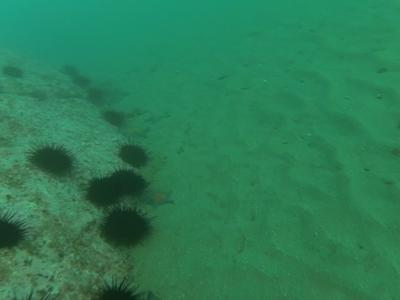urchin: (103, 205, 154, 249), (26, 141, 76, 179), (87, 272, 153, 297), (113, 136, 153, 168), (2, 204, 27, 255), (112, 165, 149, 199), (83, 177, 121, 208), (103, 111, 123, 125), (6, 67, 23, 77)
